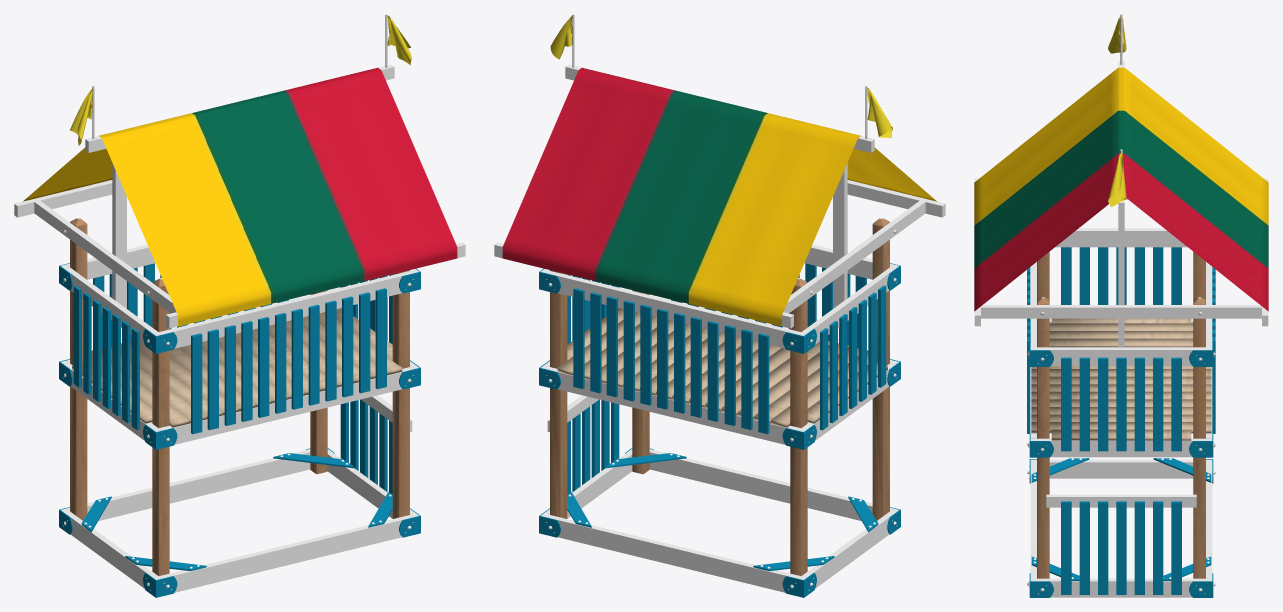
3 renders of one model, left to right at view 1: azimuth 30°, elevation 25°; view 2: azimuth 150°, elevation 25°; view 3: azimuth 270°, elevation 25°, orthographic. The views are drawn at different scales.
Parts seen in each view (by area): view 1: roof_canopy,#004983,#01664b,#ffcb05,#93293b,tricolors, Cube201, King_base_bottom, Cube201.001, King_base_middle, Cube201_1, King_corner_Top,_colorize_, King_joints,_colorize_, King_corner_Bottom,_colorize_, King_Fence,_colorize_, King_Fence007,_colorize_, King_Fence008,_colorize_ (+20 smaller); view 2: roof_canopy,#004983,#01664b,#ffcb05,#93293b,tricolors, Cube201, King_base_bottom, Cube201.001, King_base_middle, Cube201_1, King_corner_Top,_colorize_, King_joints,_colorize_, King_corner_Bottom,_colorize_, King_Fence023,_colorize_, King_Fence025,_colorize_, King_Fence018,_colorize_ (+21 smaller); view 3: roof_canopy,#004983,#01664b,#ffcb05,#93293b,tricolors, Cube201, Cube201.001, King_base_bottom, Cube201_1, King_base_middle, Box, King_corner_Top,_colorize_, King_joints,_colorize_, King_Fence015,_colorize_, King_Fence016,_colorize_, King_Fence034,_colorize_ (+20 smaller).
Part boxes in pixels (left/top/right/bottom): roof_canopy,#004983,#01664b,#ffcb05,#93293b,tricolors: left=23, top=67, right=457, bottom=326; Cube201: left=14, top=14, right=465, bottom=444; King_base_bottom: left=61, top=449, right=419, bottom=592; Cube201.001: left=72, top=308, right=402, bottom=427; King_base_middle: left=70, top=386, right=409, bottom=575; Cube201_1: left=70, top=218, right=409, bottom=428; King_corner_Top,_colorize_: left=59, top=263, right=420, bottom=449; King_joints,_colorize_: left=81, top=453, right=392, bottom=571; King_corner_Bottom,_colorize_: left=59, top=448, right=420, bottom=597; King_Fence,_colorize_: left=191, top=333, right=202, bottom=434; King_Fence007,_colorize_: left=308, top=304, right=319, bottom=405; King_Fence008,_colorize_: left=325, top=300, right=336, bottom=401; roof_canopy,#004983,#01664b,#ffcb05,#93293b,tricolors: left=502, top=67, right=936, bottom=326; Cube201: left=494, top=14, right=945, bottom=444; King_base_bottom: left=540, top=449, right=898, bottom=592; Cube201.001: left=557, top=308, right=887, bottom=427; King_base_middle: left=550, top=386, right=889, bottom=575; Cube201_1: left=550, top=218, right=889, bottom=428; King_corner_Top,_colorize_: left=539, top=263, right=900, bottom=449; King_joints,_colorize_: left=567, top=453, right=878, bottom=571; King_corner_Bottom,_colorize_: left=539, top=448, right=900, bottom=597; King_Fence023,_colorize_: left=640, top=304, right=651, bottom=405; King_Fence025,_colorize_: left=606, top=296, right=617, bottom=397; King_Fence018,_colorize_: left=724, top=325, right=735, bottom=425; roof_canopy,#004983,#01664b,#ffcb05,#93293b,tricolors: left=974, top=67, right=1268, bottom=311; Cube201: left=974, top=14, right=1268, bottom=457; Cube201.001: left=1031, top=318, right=1211, bottom=440; King_base_bottom: left=1027, top=458, right=1215, bottom=597; Cube201_1: left=1037, top=252, right=1205, bottom=438; King_base_middle: left=1037, top=457, right=1205, bottom=578; Box: left=1046, top=494, right=1196, bottom=507; King_corner_Top,_colorize_: left=1029, top=319, right=1213, bottom=457; King_joints,_colorize_: left=1031, top=458, right=1211, bottom=580; King_Fence015,_colorize_: left=1171, top=357, right=1181, bottom=451; King_Fence016,_colorize_: left=1061, top=357, right=1071, bottom=451; King_Fence034,_colorize_: left=1116, top=357, right=1126, bottom=451.
Bounding box in the file's own units: 3.17 × 4.25 × 2.49.
Materials: 53 (4 with a texture image).
